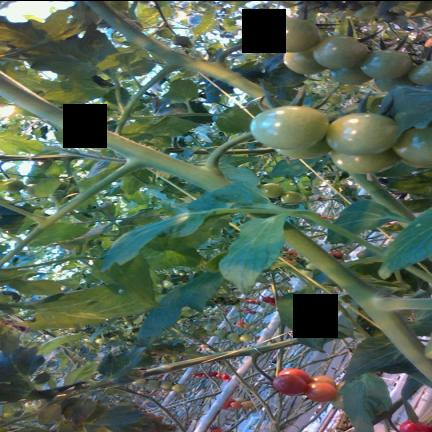6kp_peduncle: (151, 131, 254, 191), (182, 38, 268, 85), (231, 344, 274, 381)
6kp_petiole: (89, 129, 213, 191), (133, 33, 229, 92)
MainStem: (0, 71, 229, 191), (285, 220, 432, 381), (85, 0, 269, 103), (146, 337, 300, 375), (348, 172, 415, 218)
tomato: (250, 105, 329, 149), (326, 113, 398, 154), (266, 18, 321, 51), (314, 35, 368, 68), (330, 148, 399, 172), (361, 50, 412, 78), (393, 126, 431, 163), (275, 138, 331, 158), (283, 48, 326, 73), (331, 65, 371, 83), (273, 374, 306, 395), (374, 75, 416, 91), (305, 382, 336, 401), (408, 60, 431, 84), (278, 368, 310, 382), (399, 420, 431, 432), (309, 374, 336, 386), (259, 183, 282, 197), (400, 158, 431, 167), (281, 191, 302, 202), (330, 394, 342, 408), (171, 383, 186, 392), (226, 332, 239, 342), (214, 328, 227, 337), (146, 379, 159, 388), (162, 279, 174, 288), (132, 378, 147, 385), (160, 380, 173, 388), (239, 333, 253, 340), (241, 400, 253, 408), (203, 323, 216, 330), (330, 251, 342, 258), (230, 401, 242, 408), (337, 253, 350, 259), (94, 337, 107, 343), (305, 262, 316, 269), (300, 270, 312, 276), (326, 307, 338, 313), (234, 397, 246, 402), (174, 270, 180, 273), (179, 272, 184, 274)
